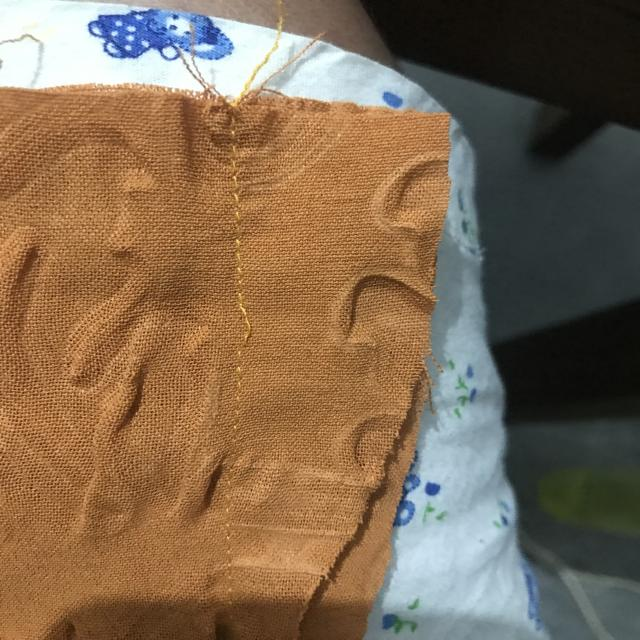good: (210, 180, 266, 264)
skip: (216, 284, 272, 375)
